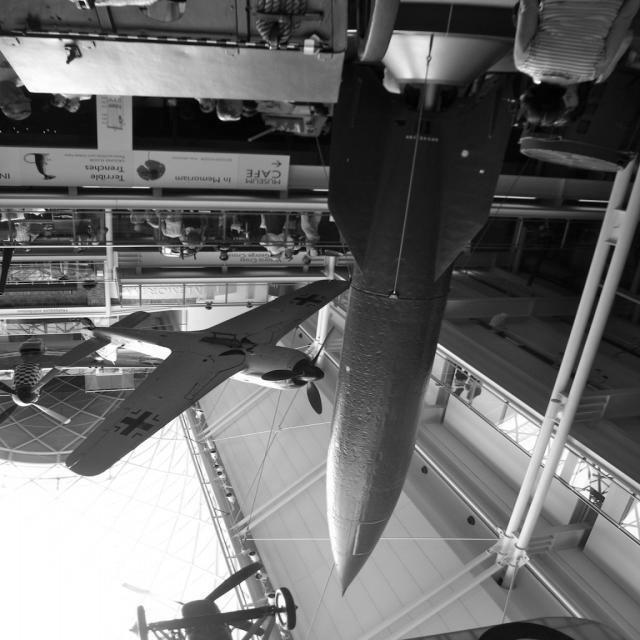missile: (321, 275, 456, 605)
